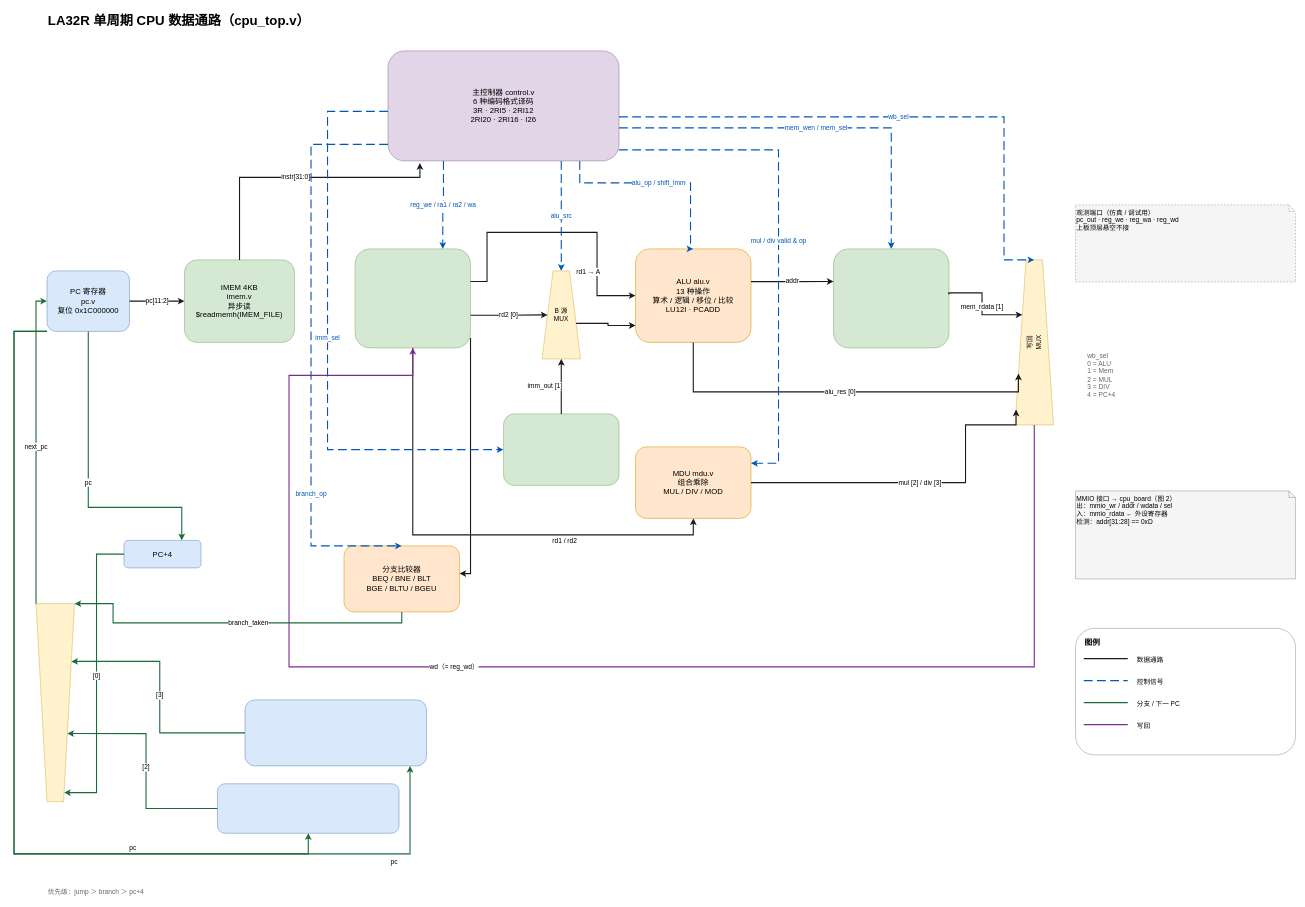
This 1305x907 diagram has some shape labels left out. The centre of each missing label's shape, as x and y in pixels:
"DMEM 8KB dmem.v 异步读 · 同步写 字节 / 半字掩码（小端） addr[31:28]=0xD → MMIO" belongs at point 891,298.
"next_pc MUX" belongs at point 55,702.
"分支目标 pc + sext(offs16)<<2 （基准 = 本条 PC）" belongs at point 308,808.
"寄存器堆 regfile.v 32×32 · 双读一写 r0 恒 0 · 异步读" belongs at point 412,298.
"立即数扩展 imm_ext.v si12 / ui12 / si20" belongs at point 561,449.
"跳转目标 I26：pc + sext(offs26)<<2 JIRL：rd1 + sext(offs16)<<2" belongs at point 335,732.
